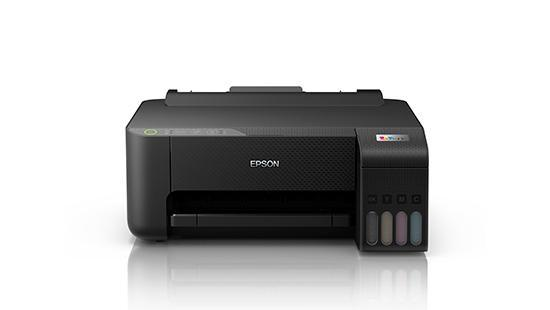Printer: (124, 85, 428, 252)
